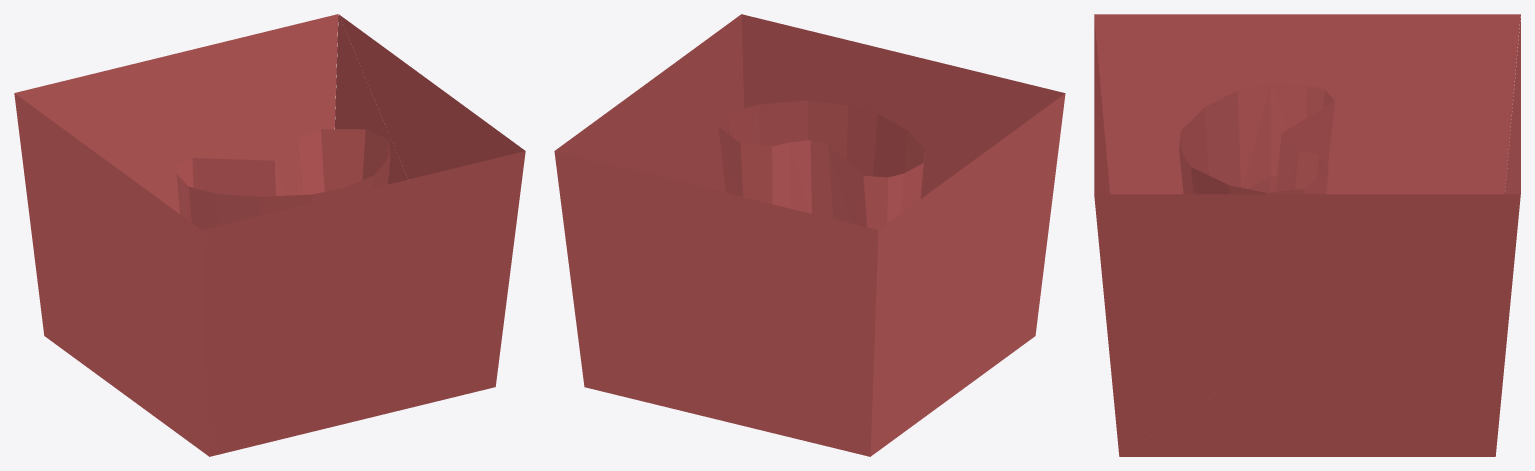
Rendered from kaizoku_irie.glb.
3 renders of one model, left to right at view 1: azimuth 30°, elevation 25°; view 2: azimuth 150°, elevation 25°; view 3: azimuth 270°, elevation 25°, orthographic. The views are drawn at different scales.
Parts seen in each view (by area): view 1: kaizoku_irie_col; view 2: kaizoku_irie_col; view 3: kaizoku_irie_col.
Part boxes in pixels (x1,y1,x2,y2): kaizoku_irie_col: (14,14,525,456); kaizoku_irie_col: (554,14,1065,456); kaizoku_irie_col: (1094,14,1520,456).
Bounding box in the file's own units: 27.21 × 19.22 × 27.21.
